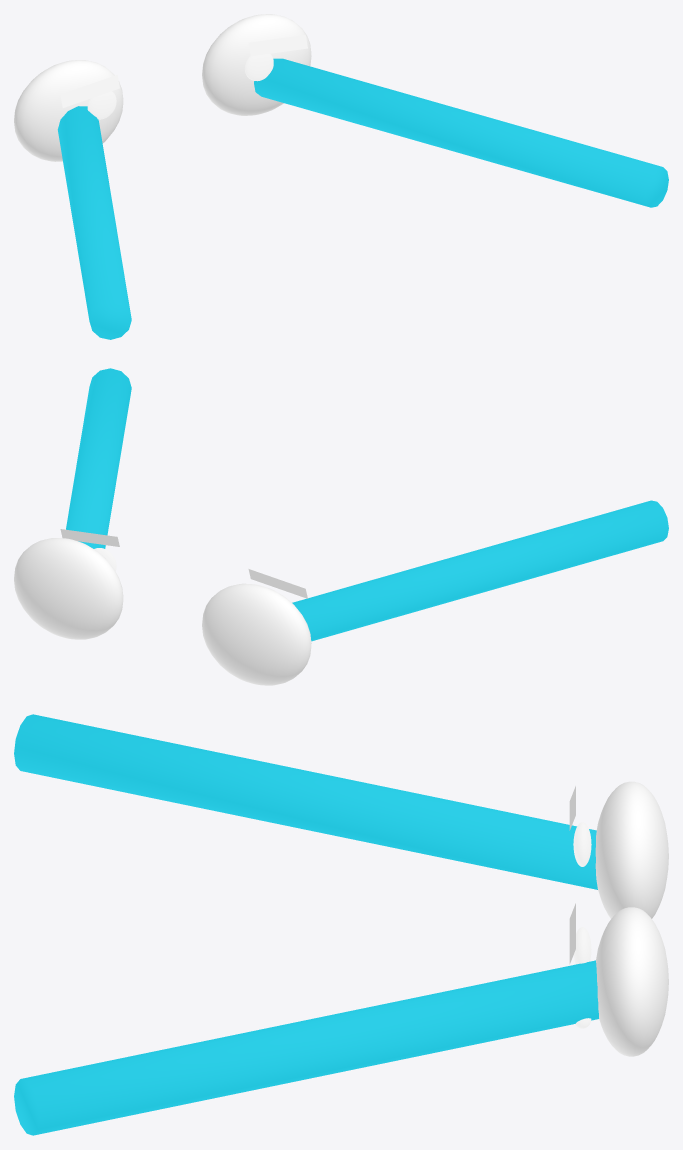
File: trait-eyes-cyan-laser.glb
3 renders of one model, top to bottom at view 1: azimuth 30°, elevation 25°; view 2: azimuth 150°, elevation 25°; view 3: azimuth 270°, elevation 25°, orthographic. The views are drawn at different scales.
Parts seen in each view (by area): view 1: trait_eye_beam_R, trait_eye_beam_L, trait_eye_R, trait_eye_L, trait_eye_lash_L, trait_eye_lash_R, trait_eye_glint_R, trait_eye_glint_L; view 2: trait_eye_beam_L, trait_eye_L, trait_eye_R, trait_eye_beam_R, trait_eye_lash_R, trait_eye_lash_L; view 3: trait_eye_beam_R, trait_eye_beam_L, trait_eye_R, trait_eye_L, trait_eye_glint_L.
Part boxes in pixels (bbox=[...]): trait_eye_beam_R: bbox=[254, 58, 668, 207]; trait_eye_beam_L: bbox=[57, 106, 131, 339]; trait_eye_R: bbox=[202, 14, 311, 115]; trait_eye_L: bbox=[14, 60, 123, 161]; trait_eye_lash_L: bbox=[60, 75, 119, 107]; trait_eye_lash_R: bbox=[248, 35, 307, 56]; trait_eye_glint_R: bbox=[244, 54, 273, 81]; trait_eye_glint_L: bbox=[87, 91, 116, 119]; trait_eye_beam_L: bbox=[292, 500, 668, 641]; trait_eye_L: bbox=[202, 583, 311, 685]; trait_eye_R: bbox=[14, 538, 123, 639]; trait_eye_beam_R: bbox=[66, 368, 131, 548]; trait_eye_lash_R: bbox=[60, 529, 119, 546]; trait_eye_lash_L: bbox=[248, 569, 307, 598]; trait_eye_beam_R: bbox=[14, 960, 598, 1135]; trait_eye_beam_L: bbox=[14, 714, 597, 889]; trait_eye_R: bbox=[596, 907, 668, 1056]; trait_eye_L: bbox=[595, 781, 668, 918]; trait_eye_glint_L: bbox=[573, 822, 591, 866].
Bounding box in the file's own units: 1.42 × 0.2262 × 1.01.
